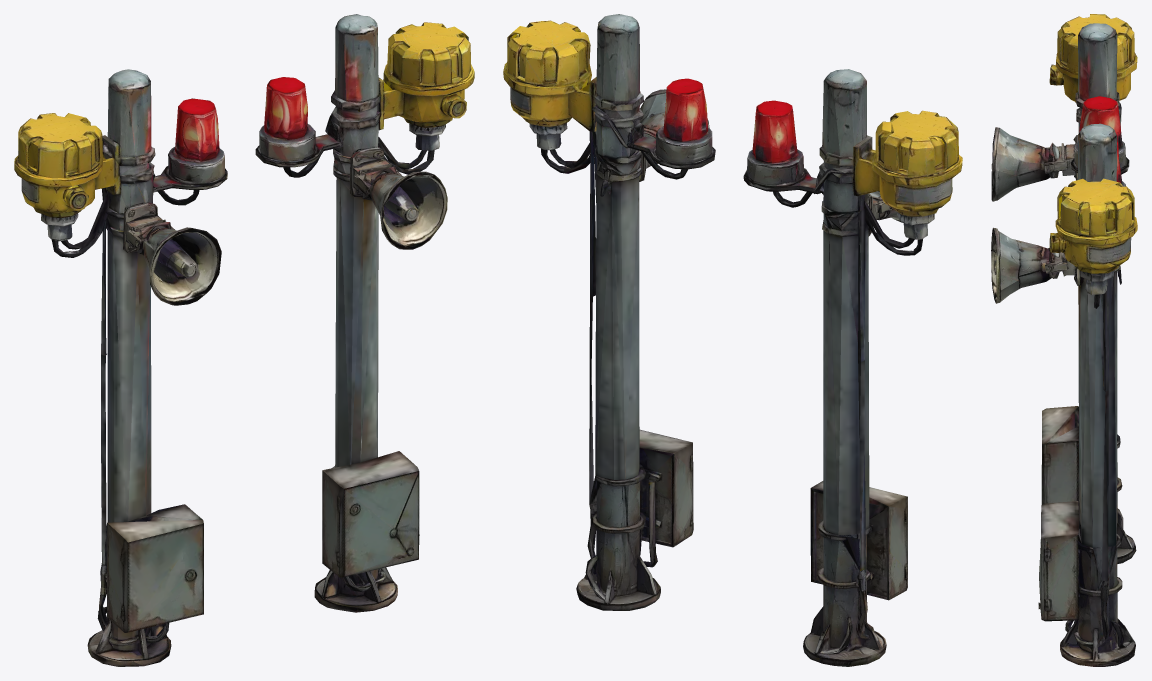
Rendered from fire_gas.glb.
3 views of the same model, side by side, from view 1: azimuth 30°, elevation 25°; view 2: azimuth 150°, elevation 25°; view 3: azimuth 270°, elevation 25° (orthographic). The views are drawn at different scales.
Size of the model in its own units: 1.54 by 1.9 by 0.482.
1 material, 1 textured.
